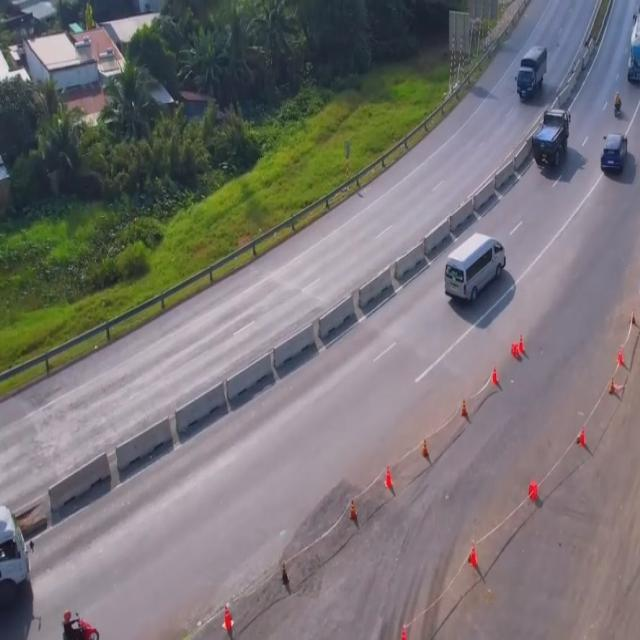car: (441, 234, 507, 309), (600, 133, 626, 177)
motorbike: (59, 607, 99, 640), (612, 90, 623, 120)
truck: (0, 505, 33, 601), (534, 103, 572, 175), (517, 45, 546, 104), (628, 3, 640, 85)
